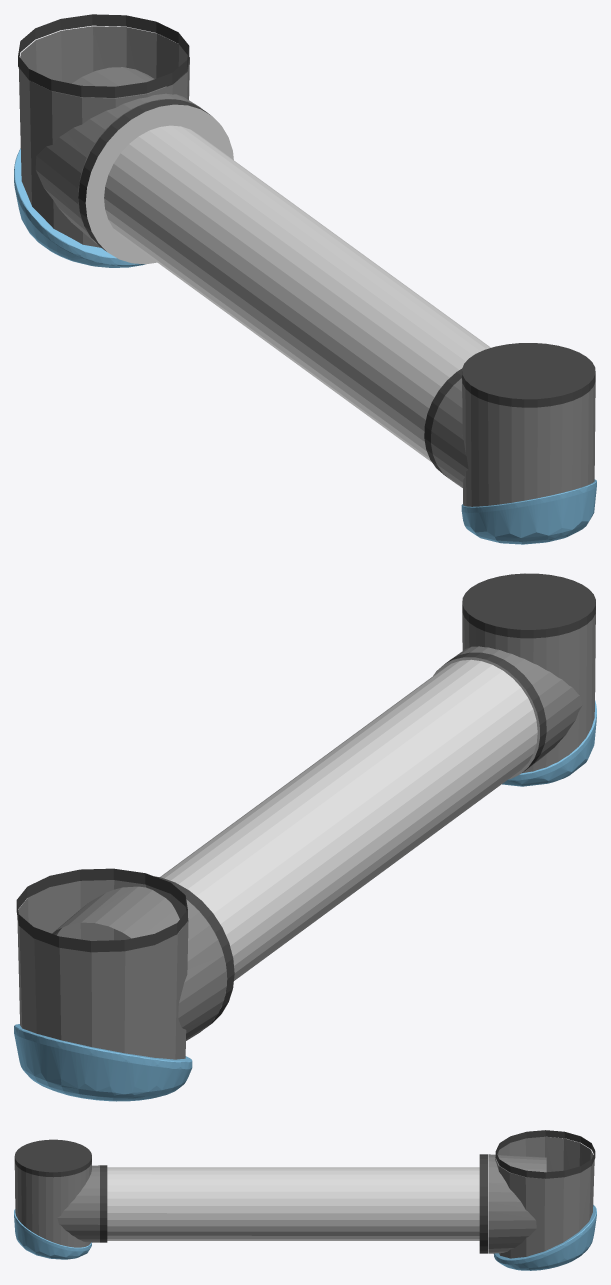
3 views of the same model, one above another, from view 1: azimuth 30°, elevation 25°; view 2: azimuth 150°, elevation 25°; view 3: azimuth 270°, elevation 25° (orthographic). The views are drawn at different scales.
Parts seen in each view (by area): view 1: Node_0000017FEC30CD30 (×9); view 2: Node_0000017FEC30CD30 (×9); view 3: Node_0000017FEC30CD30 (×9).
Boxes of the visible parts, bbox=[...] form: Node_0000017FEC30CD30 (×9): bbox=[14, 14, 596, 544]; Node_0000017FEC30CD30 (×9): bbox=[14, 573, 596, 1101]; Node_0000017FEC30CD30 (×9): bbox=[14, 1130, 596, 1270].
Bounding box in the file's own units: 0.12 × 0.1369 × 0.6778.
